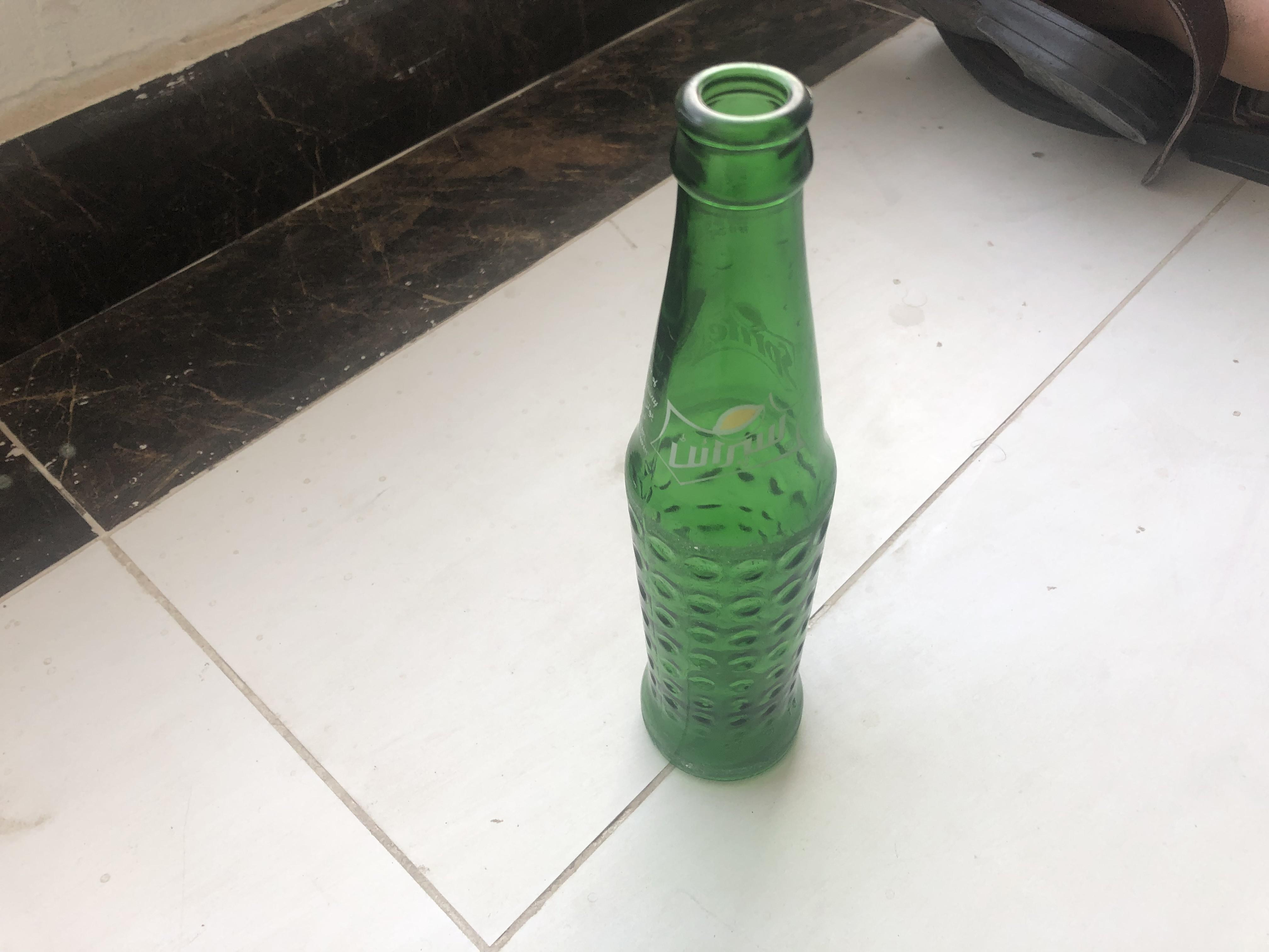bottle-glass: (625, 60, 838, 786)
